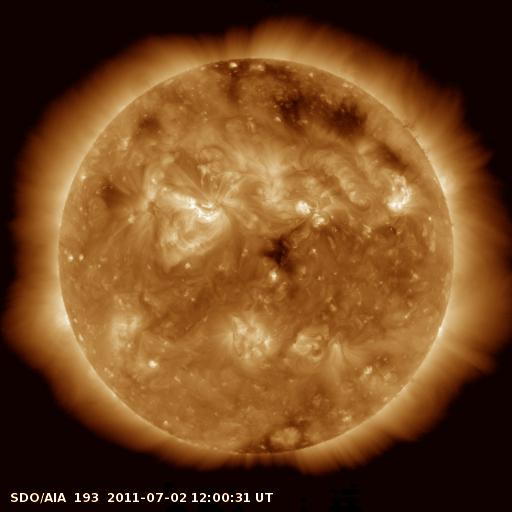coronal_hole: (271, 91, 372, 139), (257, 233, 298, 275)
